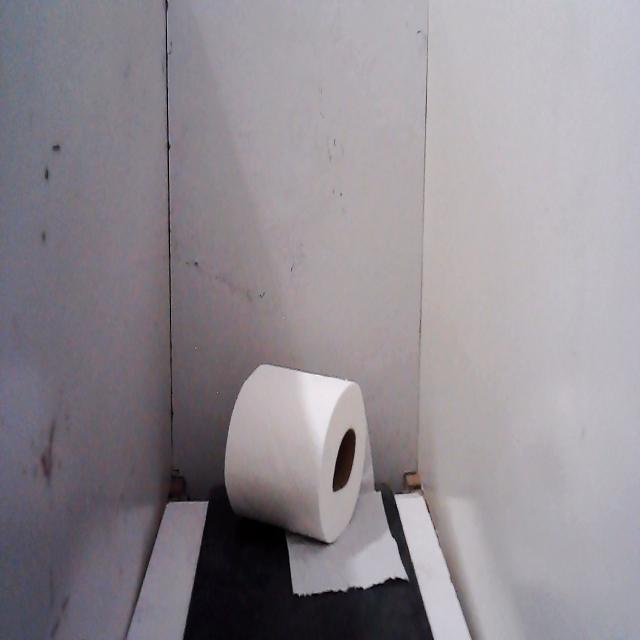papel: (218, 351, 414, 599)
